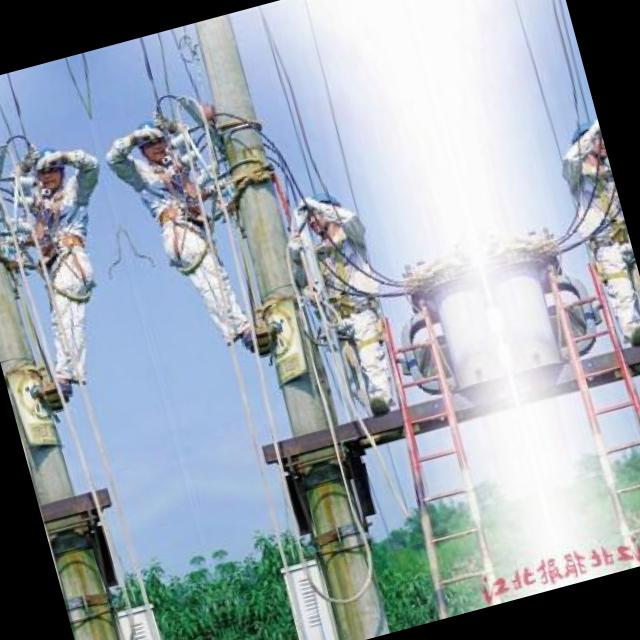helmet: (296, 182, 346, 241), (128, 110, 176, 170), (22, 139, 70, 199), (564, 111, 608, 170)
